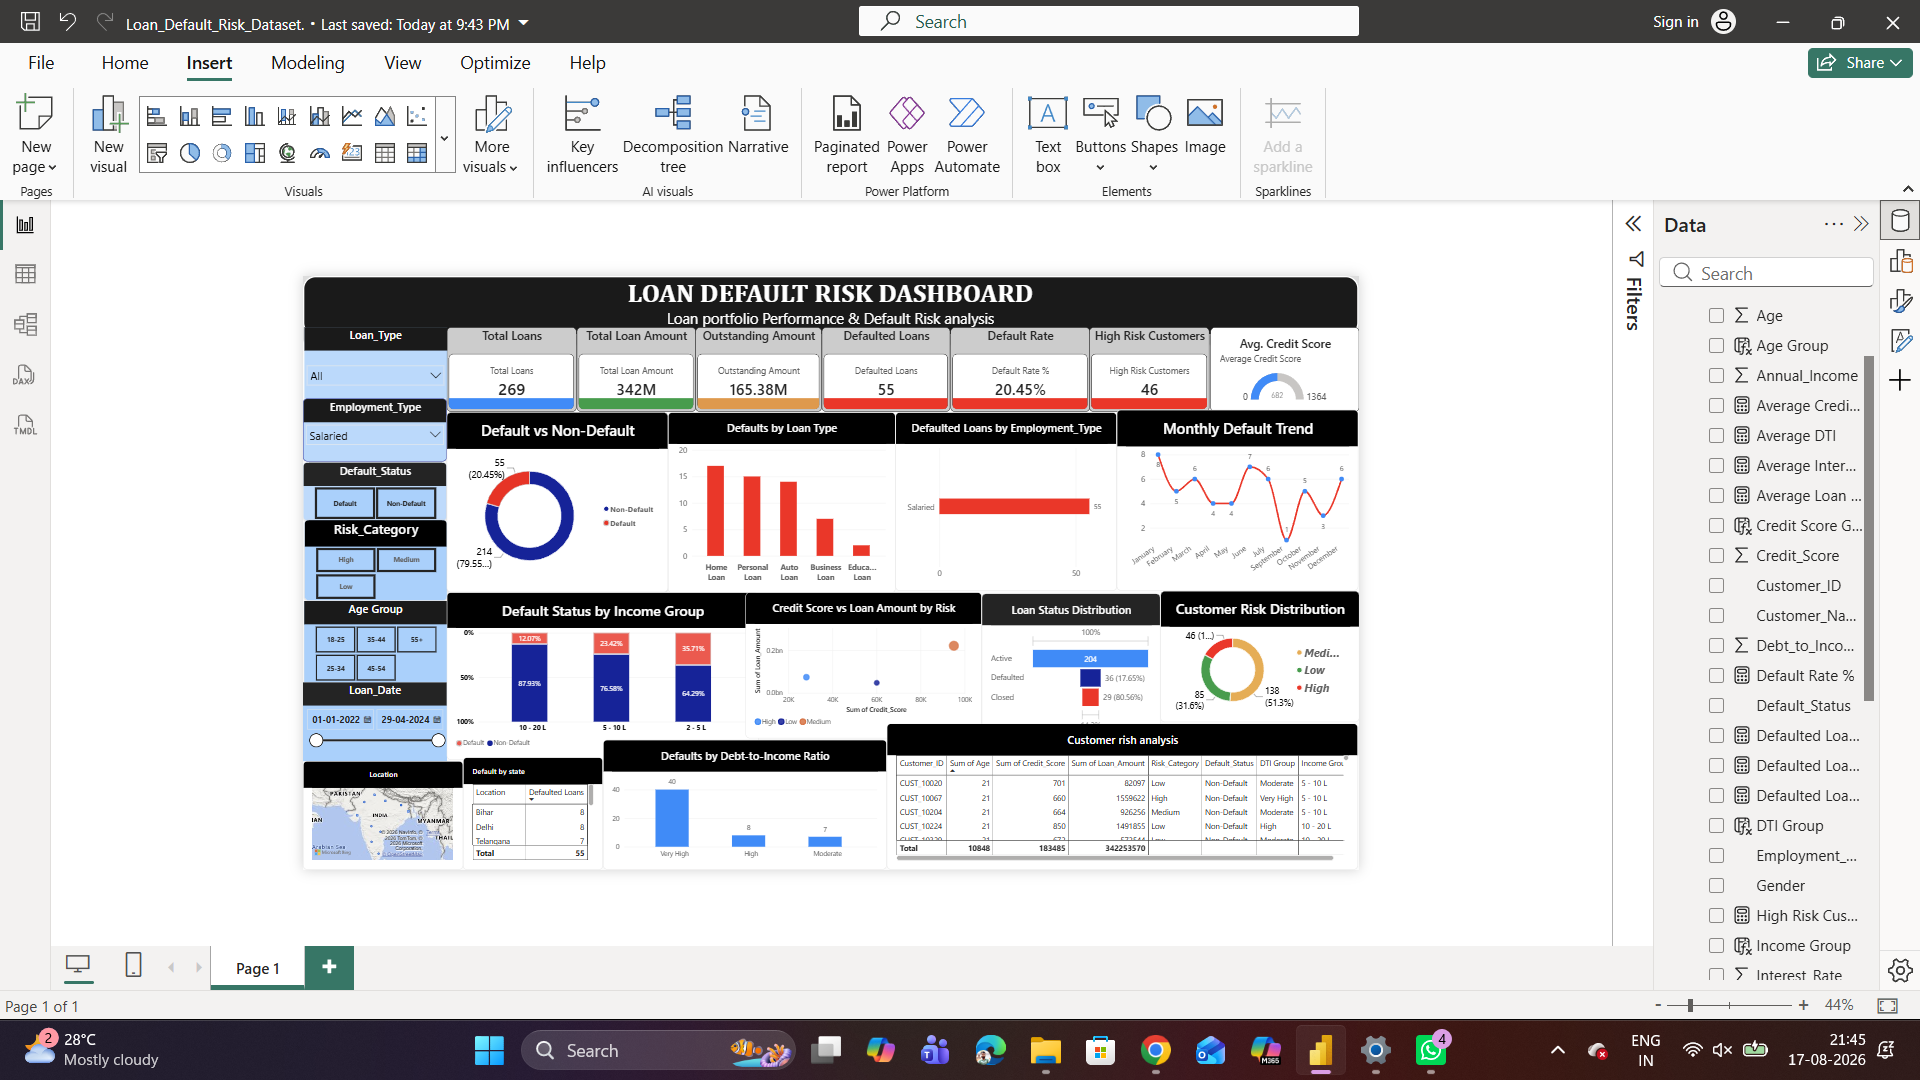

The dashboard page shown, as its layout file describes it:
{"tool":"powerbi","page":{"name":"Page 1","canvas":[1920,1080],"ordinal":0},"visuals":[{"type":"textbox","box":[0,0,1919.6,108.2],"z":0},{"type":"cardVisual","title":"Total Loans","fields":{"Data":["Loans.Total Loans"]},"box":[261.9,93.1,235.9,153.7],"z":1000},{"type":"cardVisual","title":"Total Loan Amount","fields":{"Data":["Loans.Total Loan Amount"]},"box":[497.8,93.1,216.4,153.7],"z":2000},{"type":"cardVisual","title":"Outstanding Amount","fields":{"Data":["Loans.Outstanding Amount"]},"box":[714.2,93.1,229.4,153.7],"z":3000},{"type":"cardVisual","title":"Defaulted Loans","fields":{"Data":["Loans.Defaulted Loans"]},"box":[943.6,93.1,233.7,153.7],"z":4000},{"type":"cardVisual","title":"Default Rate","fields":{"Data":["Loans.Default Rate %"]},"box":[1177.3,93.1,253.2,153.7],"z":5000},{"type":"cardVisual","title":"High Risk Customers","fields":{"Data":["Loans.High Risk Customers"]},"box":[1430.5,93.1,218.6,153.7],"z":6000},{"type":"gauge","title":"Avg. Credit Score","fields":{"Y":["Loans.Average Credit Score"]},"box":[1649.1,93.1,270.5,153.7],"z":7000},{"type":"slicer","title":"Loan_Type","fields":{"Values":["Loans.Loan_Type"]},"box":[2.2,93.1,259.7,129.8],"z":8000},{"type":"slicer","title":"Employment_Type","fields":{"Values":["Loans.Employment_Type"]},"box":[0,222.9,261.9,114.7],"z":9000},{"type":"slicer","title":"Default_Status","fields":{"Values":["Loans.Default_Status"]},"box":[0,337.6,261.9,106],"z":10000},{"type":"slicer","title":"Risk_Category","fields":{"Values":["Loans.Risk_Category"]},"box":[2.2,443.6,259.7,147.2],"z":11000},{"type":"slicer","title":"Loan_Date","fields":{"Values":["Loans.Loan_Date"]},"box":[0,738,261.9,142.8],"z":12000},{"type":"slicer","title":"Age Group","fields":{"Values":["Loans.Age Group"]},"box":[2.2,590.8,259.7,147.2],"z":13000},{"type":"donutChart","title":"Default vs Non-Default","fields":{"Category":["Loans.Default_Status"],"Y":["CountNonNull(Loans.Customer_ID)"]},"box":[261.4,247.7,402.3,327.3],"z":14000},{"type":"columnChart","title":"Defaults by Loan Type","fields":{"Category":["Loans.Loan_Type"],"Y":["Loans.Defaulted Loans"]},"box":[664.4,246.7,413.4,328.9],"z":15000},{"type":"clusteredBarChart","fields":{"Category":["Loans.Employment_Type"],"Y":["Loans.Defaulted Loans"]},"box":[1077.7,246.7,402.5,324.6],"z":16000},{"type":"lineChart","title":"Monthly Default Trend","fields":{"Category":["Loans.Loan_Date.Variation.Date Hierarchy.Month"],"Y":["Loans.Defaulted Loans"]},"box":[1480.3,242.4,439.3,328.9],"z":17000},{"type":"hundredPercentStackedColumnChart","title":"Default Status by Income Group","fields":{"Category":["Loans.Income Group"],"Series":["Loans.Default_Status"],"Y":["CountNonNull(Loans.Customer_ID)"]},"box":[261.9,575.7,567,305.1],"z":18000},{"type":"donutChart","title":"Customer Risk Distribution","fields":{"Category":["Loans.Risk_Category"],"Y":["CountNonNull(Loans.Customer_ID)"]},"box":[1559.1,572.7,361.4,238.6],"z":19000},{"type":"scatterChart","title":"Credit Score vs Loan Amount by Risk","fields":{"Series":["Loans.Risk_Category"],"Size":["Loans.Outstanding Amount"],"X":["Sum(Loans.Credit_Score)"],"Y":["Sum(Loans.Loan_Amount)"]},"box":[804.5,575,429.5,265.9],"z":20000},{"type":"clusteredColumnChart","title":"Defaults by Debt-to-Income Ratio","fields":{"Category":["Loans.DTI Group"],"Y":["Loans.Defaulted Loans"]},"box":[545.5,843.2,515.9,236.4],"z":21000},{"type":"funnel","title":"Loan Status Distribution","fields":{"Category":["Loans.Loan_Status"],"Y":["CountNonNull(Loans.Customer_ID)"]},"box":[1233.6,577.8,324.6,266.2],"z":22000},{"type":"map","title":"Location","fields":{"Category":["Loans.Location"],"Y":["Loans.Defaulted Loans"]},"box":[0,881.8,290.9,197.7],"z":23000},{"type":"tableEx","title":"Default by state","fields":{"Values":["Loans.Location","Loans.Defaulted Loans"]},"box":[290.9,875,254.5,204.5],"z":24000},{"type":"tableEx","title":"Customer rish analysis","fields":{"Values":["Loans.Customer_ID","Sum(Loans.Age)","Sum(Loans.Credit_Score)","Sum(Loans.Loan_Amount)","Loans.Risk_Category","Loans.Default_Status","Loans.DTI Group","Loans.Income Group"]},"box":[1061.4,813.6,856.8,265.9],"z":25000}]}

Visuals, with their boxes on the page's 1920x1080 design canvas (x1, y1, x2, y2). These are canvas units, not pixel positions in the 1920x1080 screenshot, which may show the page scaled, cropped or inside an application window:
textbox: bbox=(0, 0, 1920, 108)
"Total Loans" cardVisual: bbox=(262, 93, 498, 247)
"Total Loan Amount" cardVisual: bbox=(498, 93, 714, 247)
"Outstanding Amount" cardVisual: bbox=(714, 93, 944, 247)
"Defaulted Loans" cardVisual: bbox=(944, 93, 1177, 247)
"Default Rate" cardVisual: bbox=(1177, 93, 1430, 247)
"High Risk Customers" cardVisual: bbox=(1430, 93, 1649, 247)
"Avg. Credit Score" gauge: bbox=(1649, 93, 1920, 247)
"Loan_Type" slicer: bbox=(2, 93, 262, 223)
"Employment_Type" slicer: bbox=(0, 223, 262, 338)
"Default_Status" slicer: bbox=(0, 338, 262, 444)
"Risk_Category" slicer: bbox=(2, 444, 262, 591)
"Loan_Date" slicer: bbox=(0, 738, 262, 881)
"Age Group" slicer: bbox=(2, 591, 262, 738)
"Default vs Non-Default" donutChart: bbox=(261, 248, 664, 575)
"Defaults by Loan Type" columnChart: bbox=(664, 247, 1078, 576)
clusteredBarChart - Loans.Employment_Type x Loans.Defaulted Loans: bbox=(1078, 247, 1480, 571)
"Monthly Default Trend" lineChart: bbox=(1480, 242, 1920, 571)
"Default Status by Income Group" hundredPercentStackedColumnChart: bbox=(262, 576, 829, 881)
"Customer Risk Distribution" donutChart: bbox=(1559, 573, 1920, 811)
"Credit Score vs Loan Amount by Risk" scatterChart: bbox=(804, 575, 1234, 841)
"Defaults by Debt-to-Income Ratio" clusteredColumnChart: bbox=(546, 843, 1061, 1080)
"Loan Status Distribution" funnel: bbox=(1234, 578, 1558, 844)
"Location" map: bbox=(0, 882, 291, 1080)
"Default by state" tableEx: bbox=(291, 875, 545, 1080)
"Customer rish analysis" tableEx: bbox=(1061, 814, 1918, 1080)
